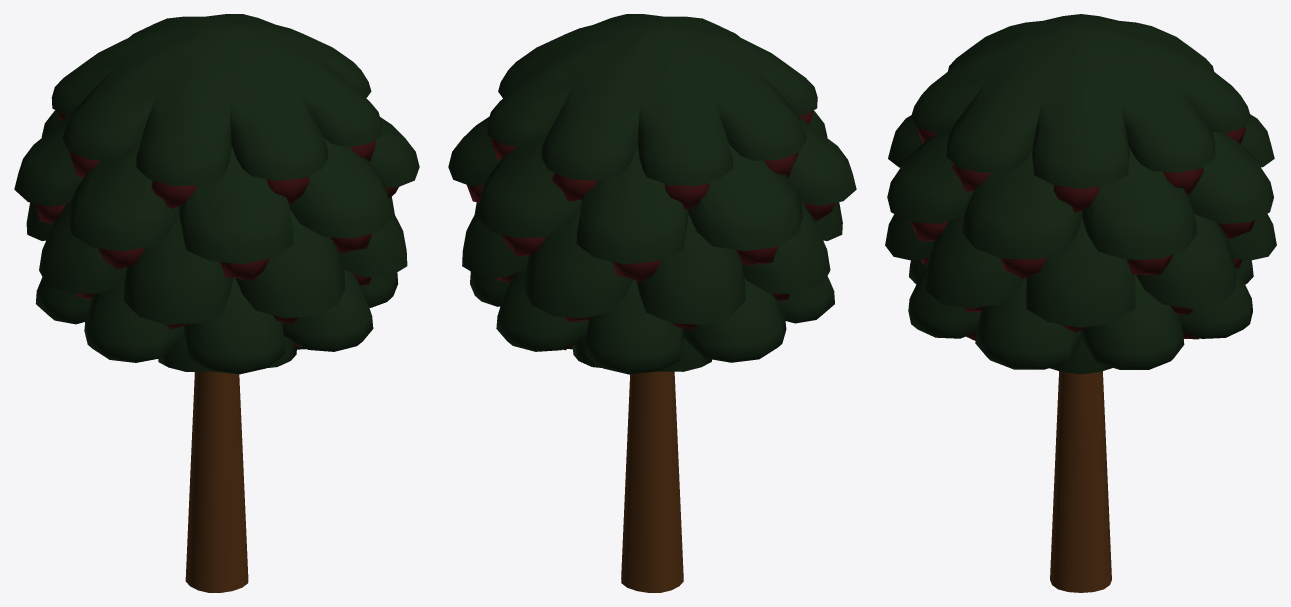
Rendered from Tree_Fruit.fbx.
3 renders of one model, left to right at view 1: azimuth 30°, elevation 25°; view 2: azimuth 150°, elevation 25°; view 3: azimuth 270°, elevation 25°, orthographic.
Visible parts, largest first — view 1: Tree_Fruit; view 2: Tree_Fruit; view 3: Tree_Fruit.
Part boxes in pixels (bbox=[...]): Tree_Fruit: bbox=[14, 14, 419, 592]; Tree_Fruit: bbox=[448, 14, 856, 592]; Tree_Fruit: bbox=[885, 14, 1276, 592].
Bounding box in the file's own units: 553 × 863 × 555.
